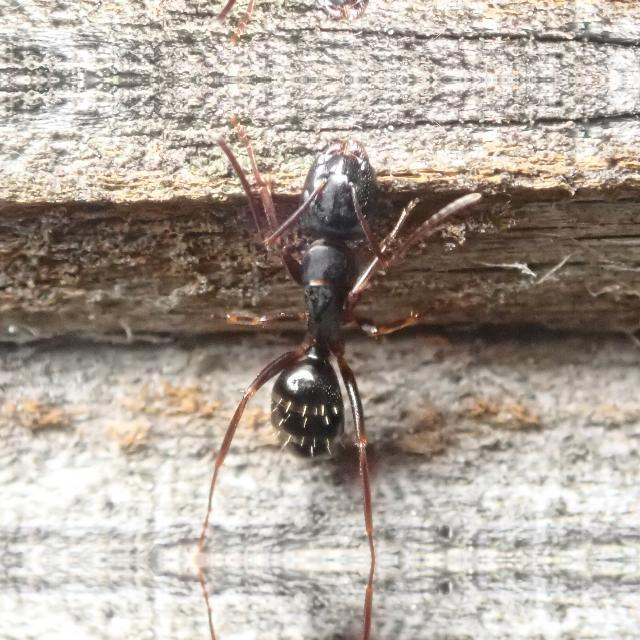Camponotus: (200, 118, 442, 500)
